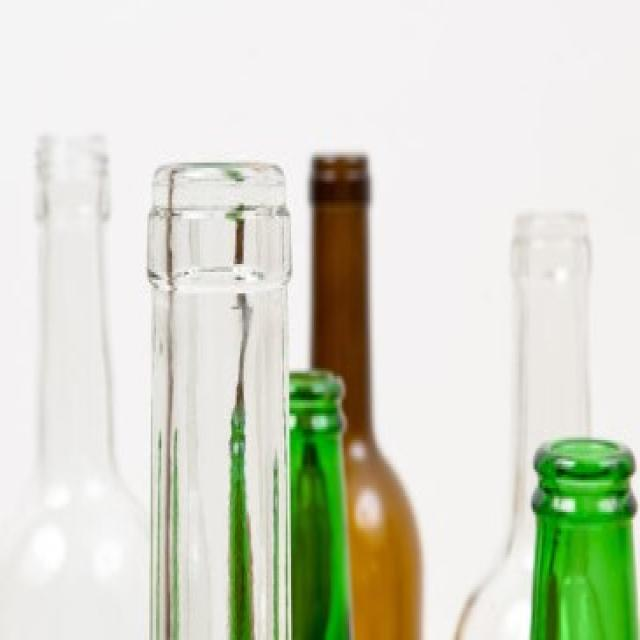electronic: (24, 122, 640, 640)
